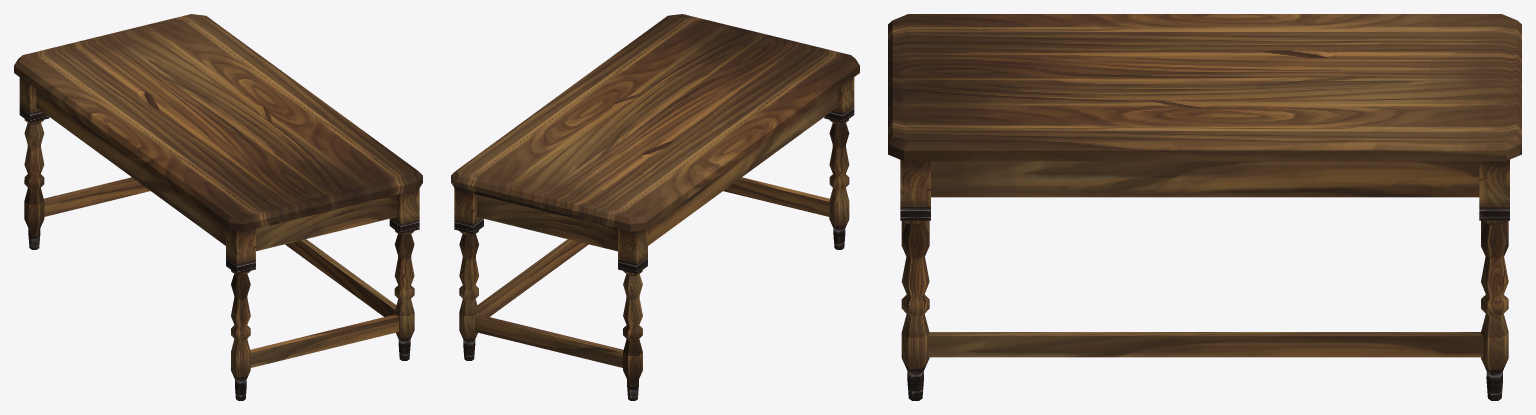
Rendered from Prop_Table_Fancy_05.fbx.
3 views of the same model, side by side, from view 1: azimuth 30°, elevation 25°; view 2: azimuth 150°, elevation 25°; view 3: azimuth 270°, elevation 25° (orthographic). The views are drawn at different scales.
Parts seen in each view (by area): view 1: SM_Prop_Table_Fancy_05; view 2: SM_Prop_Table_Fancy_05; view 3: SM_Prop_Table_Fancy_05.
Boxes of the visible parts, left/top/right/bottom form: SM_Prop_Table_Fancy_05: left=14, top=14, right=422, bottom=400; SM_Prop_Table_Fancy_05: left=451, top=14, right=859, bottom=400; SM_Prop_Table_Fancy_05: left=888, top=14, right=1521, bottom=400.
Bounding box in the file's own units: 85.18 × 78.77 × 172.
